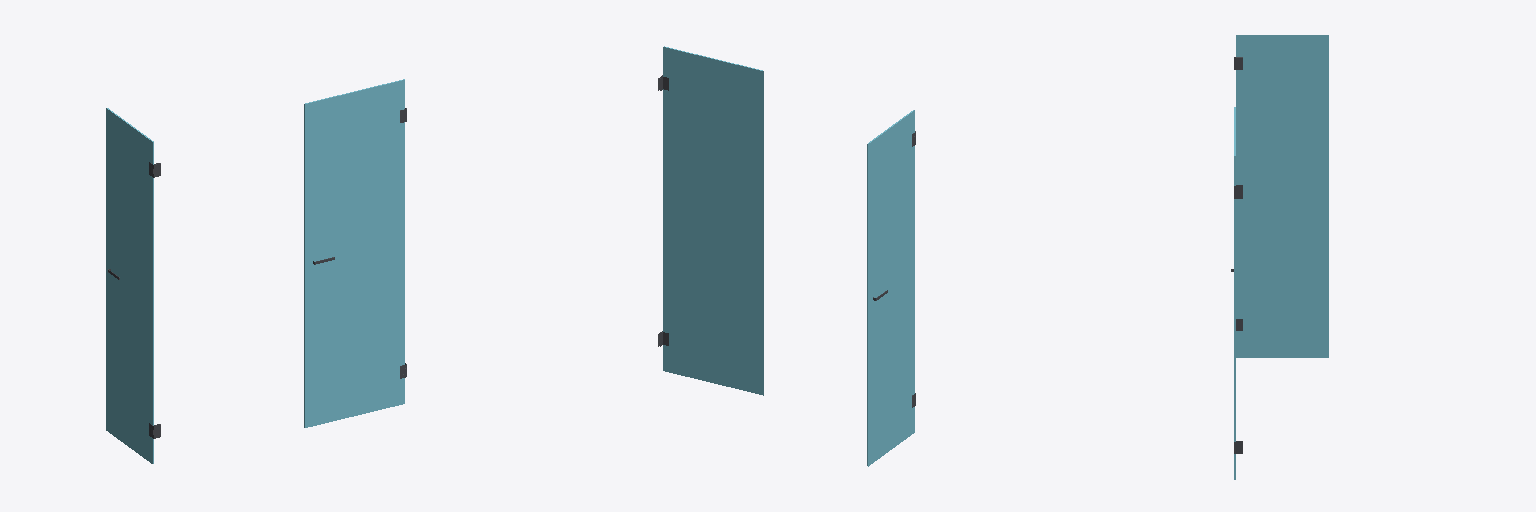
The model's file is Türen.obj.
3 views of the same model, side by side, from view 1: azimuth 30°, elevation 25°; view 2: azimuth 150°, elevation 25°; view 3: azimuth 270°, elevation 25° (orthographic).
Parts seen in each view (by area): view 1: Mesh1 Component_2850 G_17_V3_T_ren_dwg1 Model, Mesh3 Component_2869 G_17_V3_T_ren_dwg1 Model; view 2: Mesh1 Component_2850 G_17_V3_T_ren_dwg1 Model, Mesh3 Component_2869 G_17_V3_T_ren_dwg1 Model; view 3: Mesh3 Component_2869 G_17_V3_T_ren_dwg1 Model, Mesh1 Component_2850 G_17_V3_T_ren_dwg1 Model.
Part boxes in pixels (left/top/right/bottom): Mesh1 Component_2850 G_17_V3_T_ren_dwg1 Model: left=304, top=79, right=404, bottom=427; Mesh3 Component_2869 G_17_V3_T_ren_dwg1 Model: left=106, top=108, right=153, bottom=463; Mesh1 Component_2850 G_17_V3_T_ren_dwg1 Model: left=663, top=46, right=763, bottom=395; Mesh3 Component_2869 G_17_V3_T_ren_dwg1 Model: left=867, top=110, right=914, bottom=466; Mesh3 Component_2869 G_17_V3_T_ren_dwg1 Model: left=1236, top=35, right=1328, bottom=357; Mesh1 Component_2850 G_17_V3_T_ren_dwg1 Model: left=1234, top=107, right=1235, bottom=479.
Bounding box in the file's own units: 191 × 230 × 63.58.